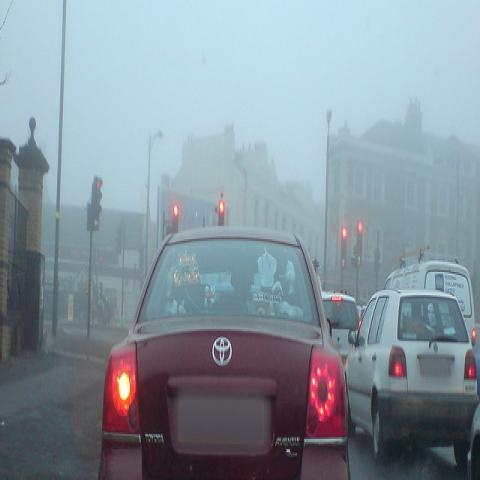car: (99, 224, 351, 474), (347, 286, 476, 468), (382, 261, 476, 354), (321, 292, 360, 365)
